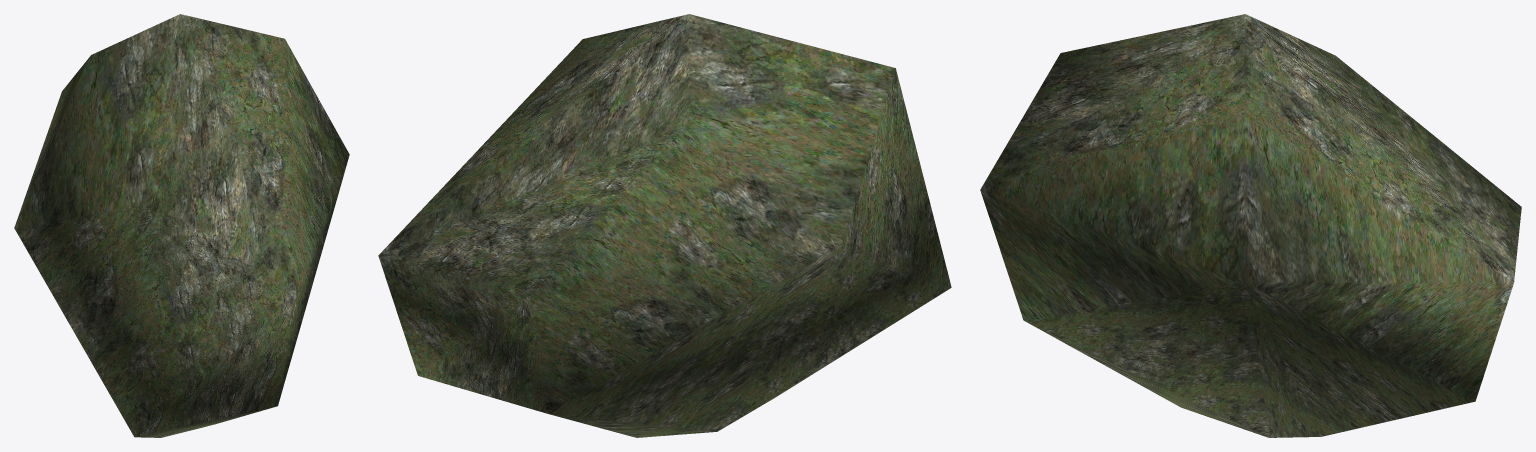
File: mtns_rock_moss_a5_l1.fbx
3 renders of one model, left to right at view 1: azimuth 30°, elevation 25°; view 2: azimuth 150°, elevation 25°; view 3: azimuth 270°, elevation 25°, orthographic.
Visible parts, largest first — view 1: mesh_node; view 2: mesh_node; view 3: mesh_node.
Part boxes in pixels (x1=…): mesh_node: x1=14, y1=14, x2=349, y2=437; mesh_node: x1=378, y1=14, x2=951, y2=437; mesh_node: x1=980, y1=14, x2=1521, y2=437.
Bounding box in the file's own units: 0.6691 × 0.7515 × 0.9406.
